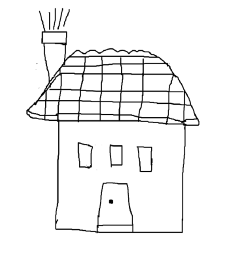door: (93, 176, 138, 237)
open_window: (98, 131, 128, 171), (72, 136, 97, 172), (133, 138, 158, 173)
roof: (12, 44, 215, 125)
smoking_chimney: (33, 2, 72, 76)
wall: (53, 114, 189, 242)
